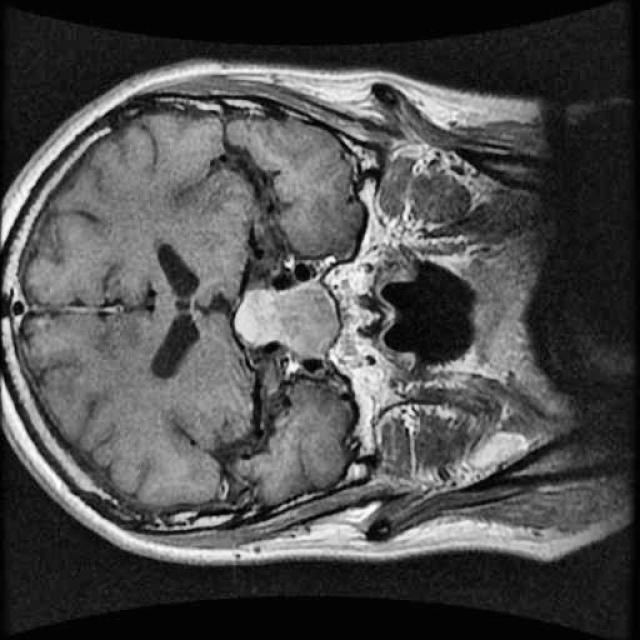Tumor: (219, 268, 356, 372)
